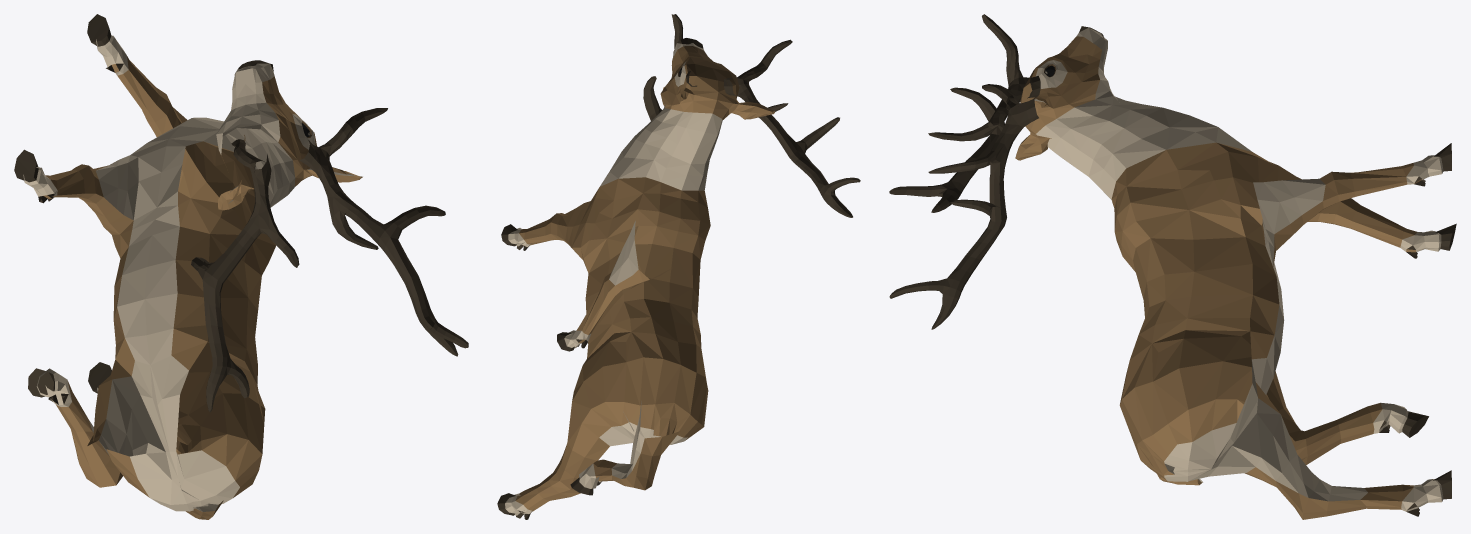
Rendered from stag-walk-3.glb.
The picture shows the model from 3 angles, left to right: view 1: azimuth 30°, elevation 25°; view 2: azimuth 150°, elevation 25°; view 3: azimuth 270°, elevation 25°; orthographic projection. The views are drawn at different scales.
Bounding box in the file's own units: 0.8649 × 1.67 × 1.82.
